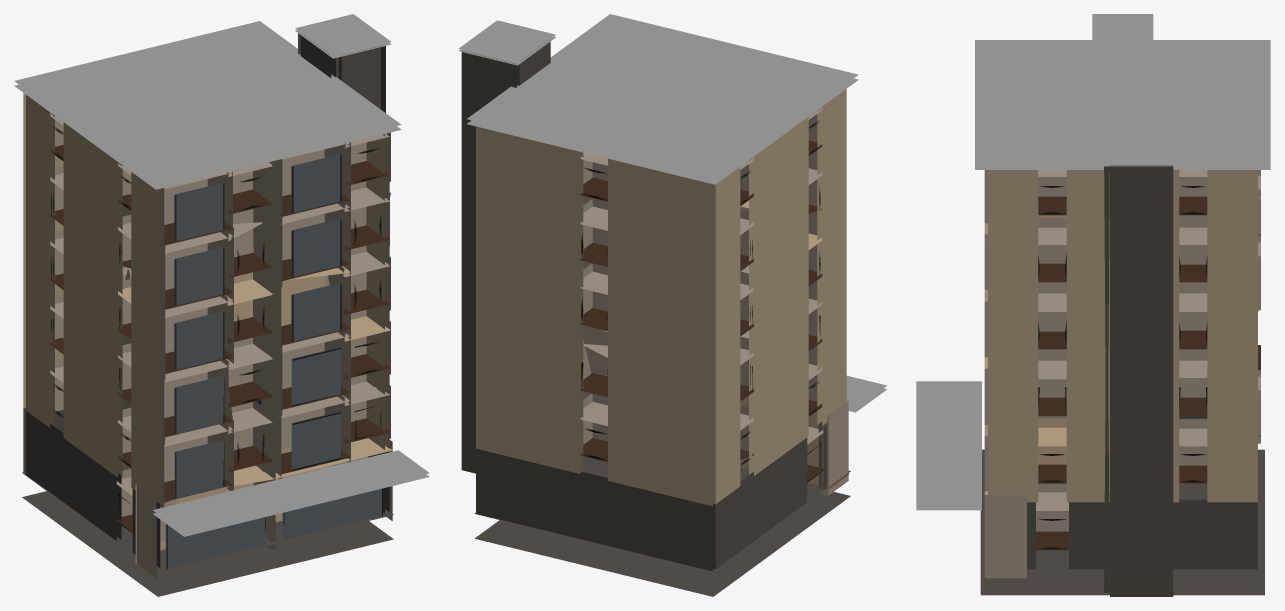
The model's file is apartment_12x12_6_far.glb.
3 views of the same model, side by side, from view 1: azimuth 30°, elevation 25°; view 2: azimuth 150°, elevation 25°; view 3: azimuth 270°, elevation 25° (orthographic). The views are drawn at different scales.
Visible parts, largest first — view 1: apartment_12x12_6; view 2: apartment_12x12_6; view 3: apartment_12x12_6.
Part boxes in pixels (<box>): apartment_12x12_6: <box>14,14,429,596</box>; apartment_12x12_6: <box>459,14,887,596</box>; apartment_12x12_6: <box>916,14,1270,596</box>.
Bounding box in the file's own units: 15.2 × 22.35 × 15.1.
